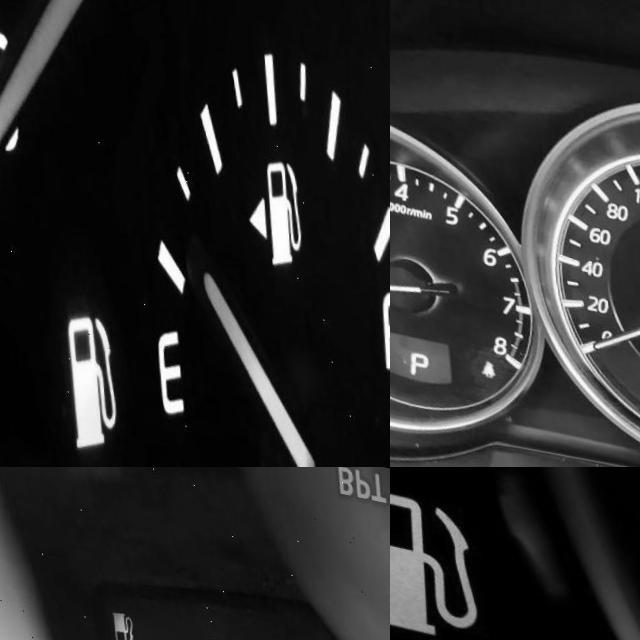Seat Belt: (473, 354, 489, 376)
